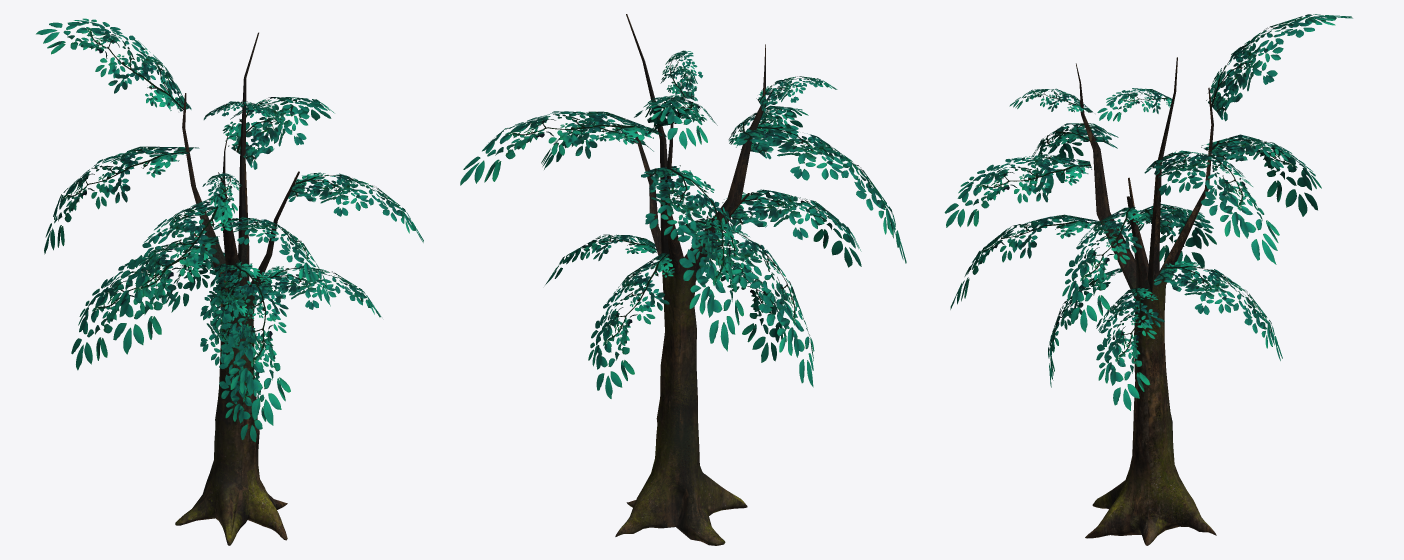
The model's file is tree_idle.fbx.
3 renders of one model, left to right at view 1: azimuth 30°, elevation 25°; view 2: azimuth 150°, elevation 25°; view 3: azimuth 270°, elevation 25°, orthographic. The views are drawn at different scales.
Visible parts, largest first — view 1: Cylinder018, Plane025, Plane029, Plane036, Plane037, Plane033, Plane031, Plane026, Plane034, Plane027, Plane030, Plane032 (+2 smaller); view 2: Cylinder018, Plane033, Plane037, Plane031, Plane029, Plane028, Plane025, Plane036, Plane026, Plane030, Plane027, Plane035 (+2 smaller); view 3: Cylinder018, Plane031, Plane030, Plane036, Plane034, Plane027, Plane028, Plane033, Plane025, Plane037, Plane029, Plane035 (+2 smaller).
Part boxes in pixels (left/top/right/bottom): Cylinder018: left=175, top=32, right=299, bottom=545; Plane025: left=200, top=259, right=290, bottom=425; Plane029: left=111, top=193, right=233, bottom=354; Plane036: left=36, top=18, right=191, bottom=111; Plane037: left=71, top=236, right=219, bottom=370; Plane033: left=44, top=146, right=199, bottom=254; Plane031: left=222, top=97, right=334, bottom=169; Plane026: left=200, top=292, right=268, bottom=442; Plane034: left=288, top=172, right=423, bottom=242; Plane027: left=258, top=265, right=381, bottom=317; Plane030: left=213, top=217, right=330, bottom=306; Plane032: left=202, top=173, right=241, bottom=220; Cylinder018: left=615, top=14, right=772, bottom=545; Plane033: left=641, top=165, right=743, bottom=351; Plane037: left=676, top=217, right=814, bottom=387; Plane031: left=460, top=111, right=666, bottom=185; Plane029: left=737, top=123, right=906, bottom=263; Plane028: left=588, top=253, right=674, bottom=398; Plane025: left=722, top=189, right=861, bottom=267; Plane036: left=634, top=94, right=717, bottom=149; Plane026: left=712, top=257, right=786, bottom=362; Plane030: left=728, top=105, right=808, bottom=159; Plane027: left=545, top=234, right=656, bottom=284; Plane035: left=660, top=50, right=702, bottom=100; Cylinder018: left=1076, top=57, right=1216, bottom=545; Plane031: left=1144, top=150, right=1279, bottom=264; Plane030: left=944, top=154, right=1091, bottom=227; Plane036: left=1206, top=14, right=1352, bottom=121; Plane034: left=1062, top=207, right=1144, bottom=332; Plane027: left=1096, top=287, right=1164, bottom=410; Plane028: left=1154, top=261, right=1282, bottom=360; Plane033: left=1201, top=134, right=1321, bottom=216; Plane025: left=950, top=214, right=1100, bottom=309; Plane037: left=1123, top=204, right=1216, bottom=272; Plane029: left=1029, top=123, right=1118, bottom=195; Plane035: left=1097, top=88, right=1172, bottom=121.
Size of the model in its own units: 12.51 by 16.72 by 14.03.
Materials: 2 (2 with a texture image).
